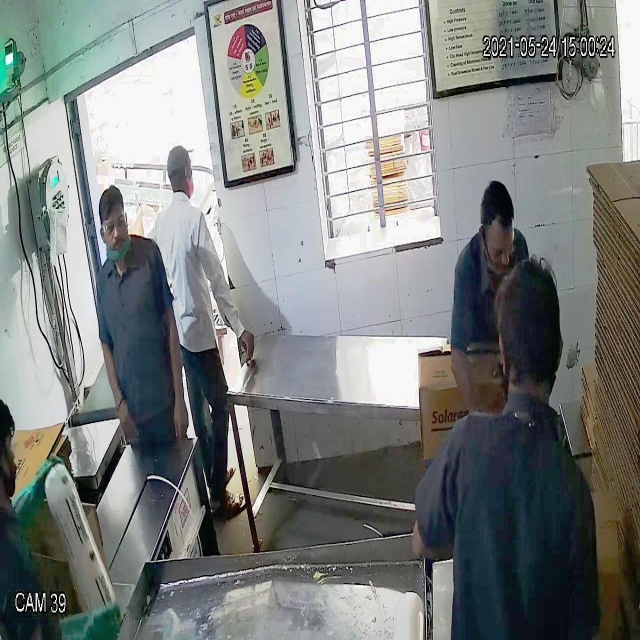Gafas: (94, 215, 132, 243)
